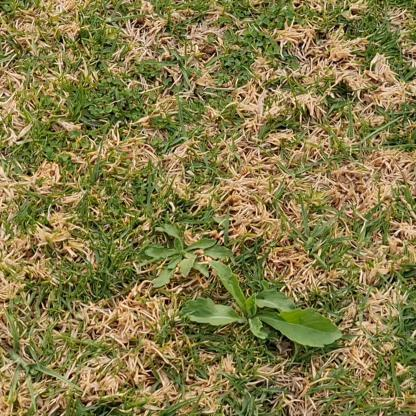Weeds: (180, 262, 342, 349), (137, 222, 232, 288)
